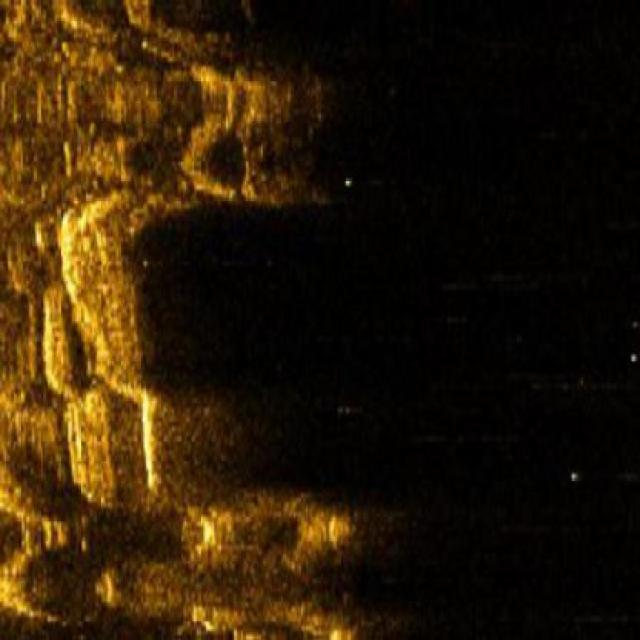bedrock group: (0, 0, 358, 638)
